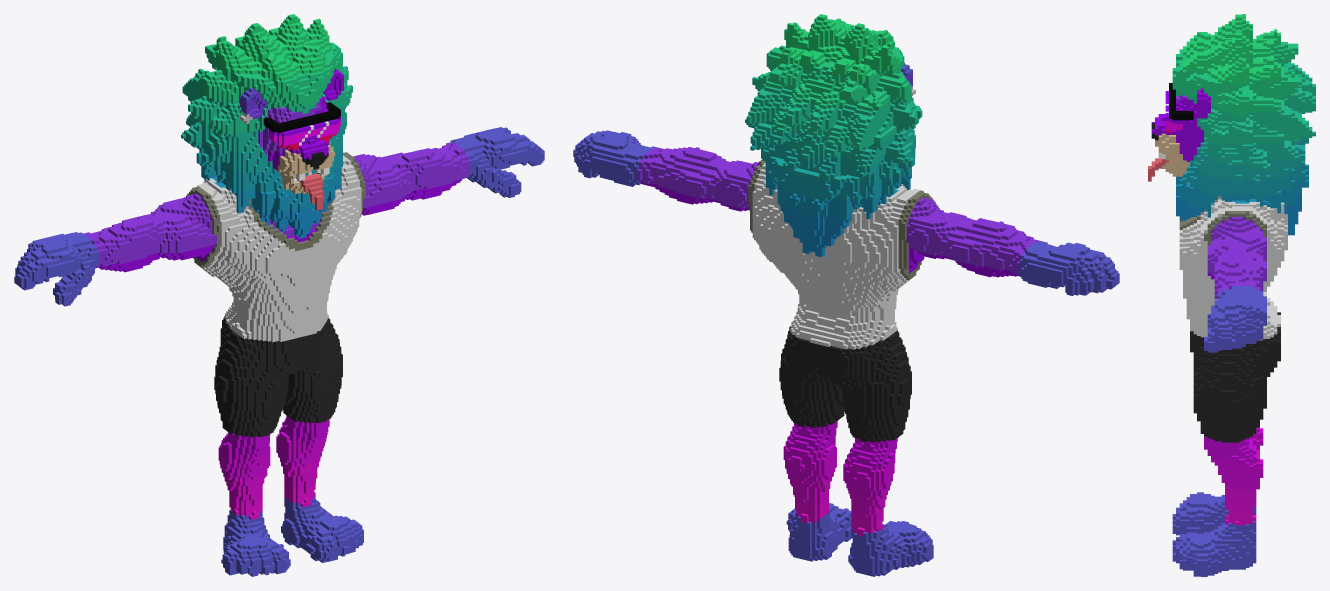
File: 983-CqK9laz0.glb
3 views of the same model, side by side, from view 1: azimuth 30°, elevation 25°; view 2: azimuth 150°, elevation 25°; view 3: azimuth 270°, elevation 25° (orthographic). The views are drawn at different scales.
Parts seen in each view (by area): view 1: tongue_out; view 2: tongue_out; view 3: tongue_out.
Part boxes in pixels (bbox=[...]): tongue_out: bbox=[14, 14, 544, 576]; tongue_out: bbox=[573, 14, 1119, 576]; tongue_out: bbox=[1148, 14, 1315, 576].
Size of the model in its own units: 17.2 by 16.5 by 4.8.
6 materials, 6 textured.
